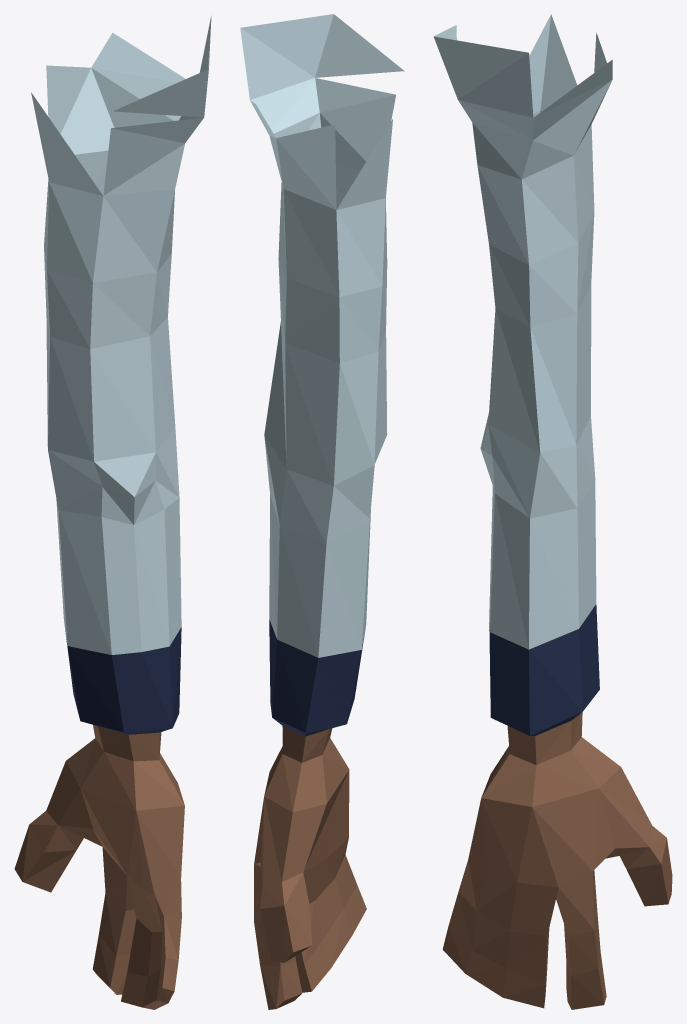
Rendered from ArmR.obj.
3 renders of one model, left to right at view 1: azimuth 30°, elevation 25°; view 2: azimuth 150°, elevation 25°; view 3: azimuth 270°, elevation 25°, orthographic. The views are drawn at different scales.
Bounding box in the file's own units: 0.1566 × 0.8641 × 0.1891.
1 material, 1 textured.
